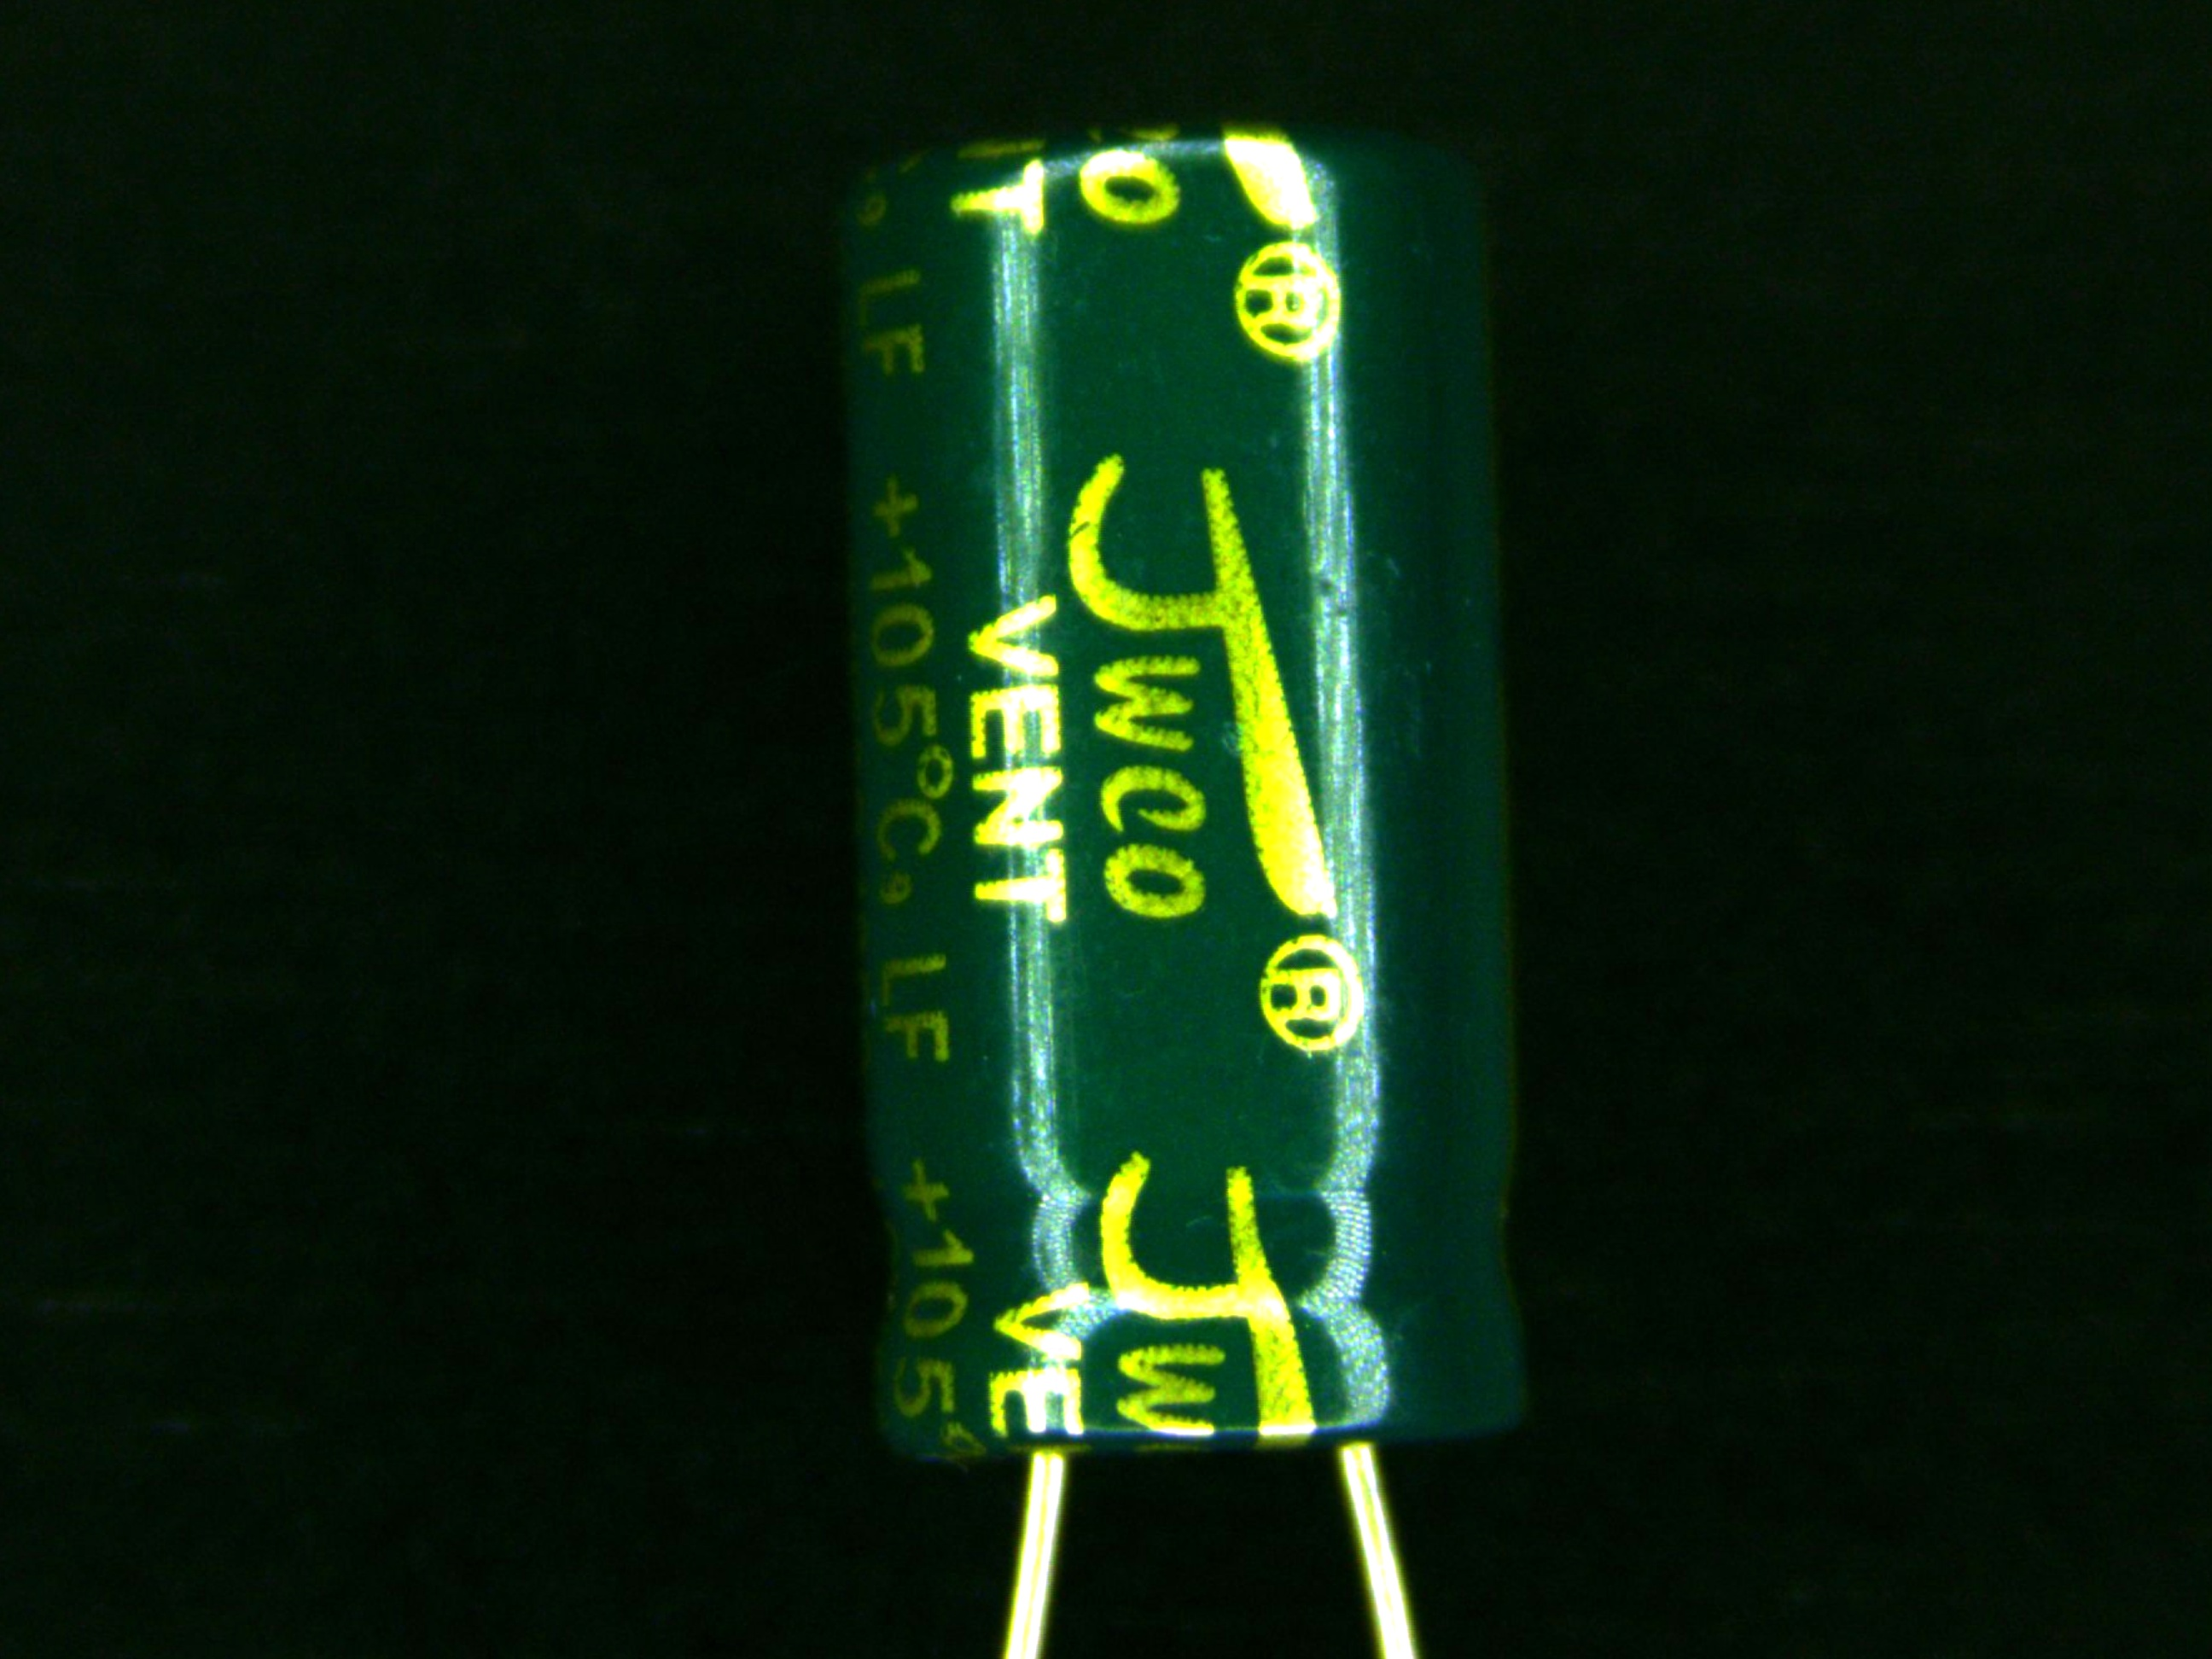c1: (827, 117, 1541, 1622)
